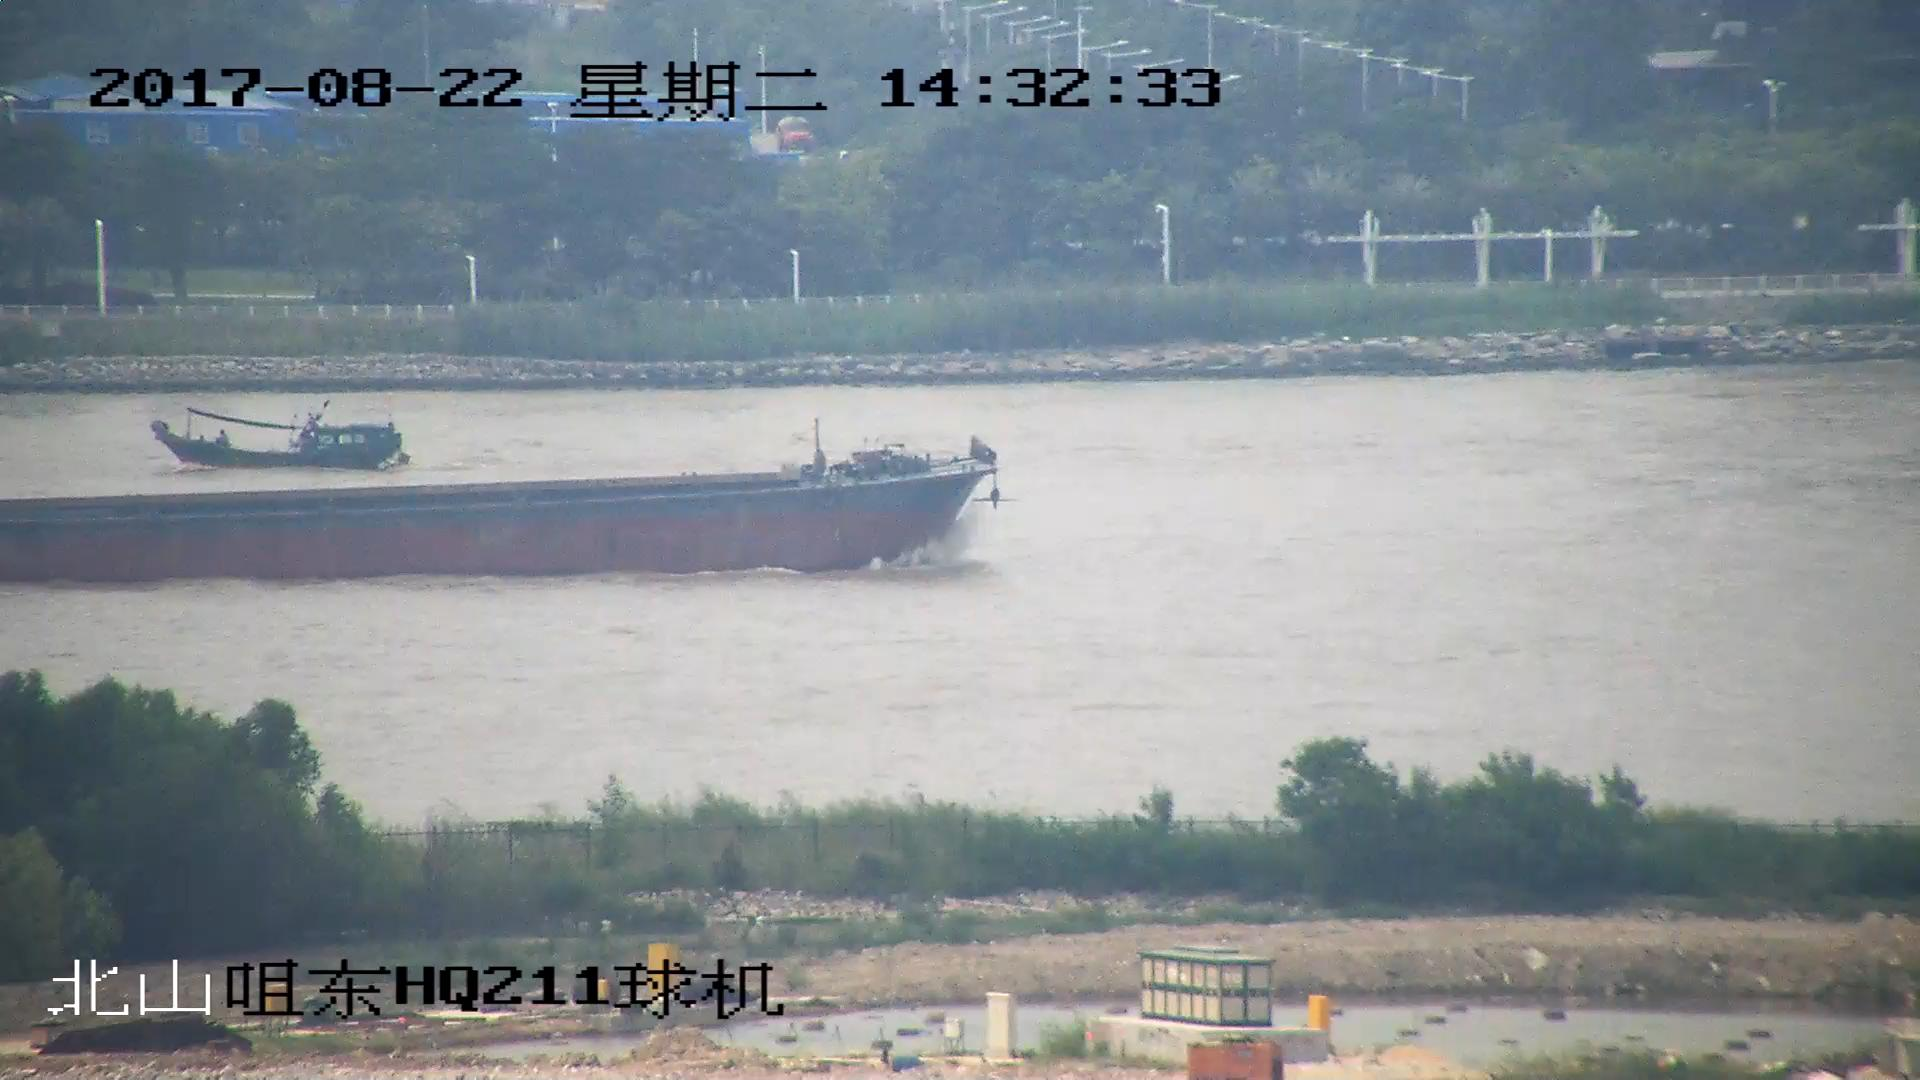bulk cargo carrier: (1, 429, 1004, 585)
fishing boat: (153, 403, 414, 473)
